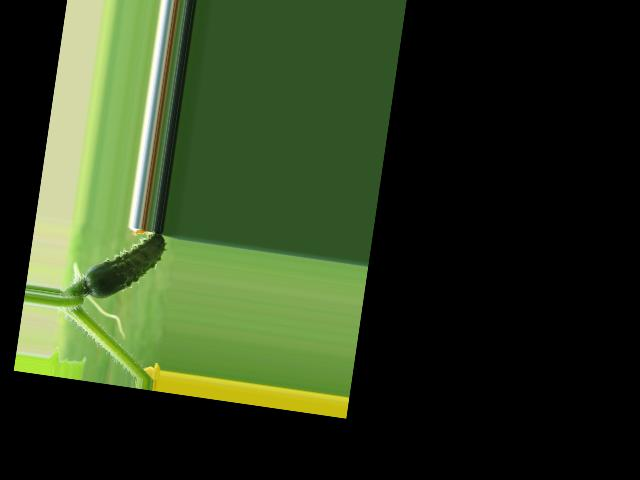cucumber: (83, 224, 167, 308)
